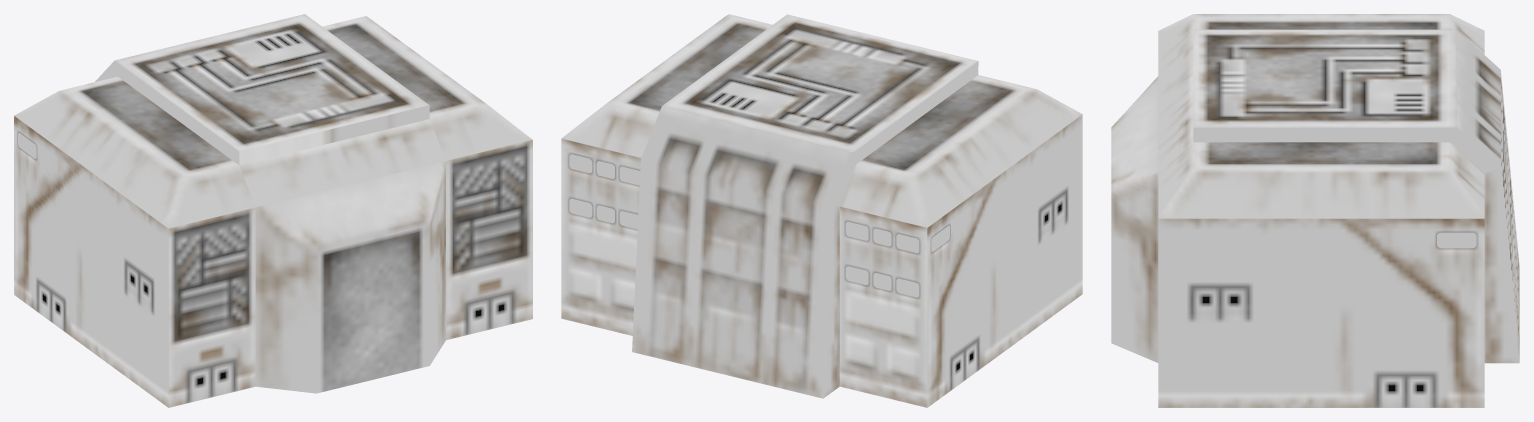
The model's file is centerlobby.glb.
3 views of the same model, side by side, from view 1: azimuth 30°, elevation 25°; view 2: azimuth 150°, elevation 25°; view 3: azimuth 270°, elevation 25° (orthographic). The views are drawn at different scales.
Visible parts, largest first — view 1: connector; view 2: connector, LitWin_CenterLobby; view 3: connector, LitWin_CenterLobby.
Boxes of the visible parts, bbox=[...] form: connector: bbox=[14, 14, 532, 407]; connector: bbox=[561, 14, 1082, 407]; LitWin_CenterLobby: bbox=[569, 154, 949, 297]; connector: bbox=[1111, 14, 1519, 407]; LitWin_CenterLobby: bbox=[1437, 232, 1476, 248].
Bounding box in the file's own units: 25.52 × 14.92 × 23.44.
Materials: 1 (1 with a texture image).
